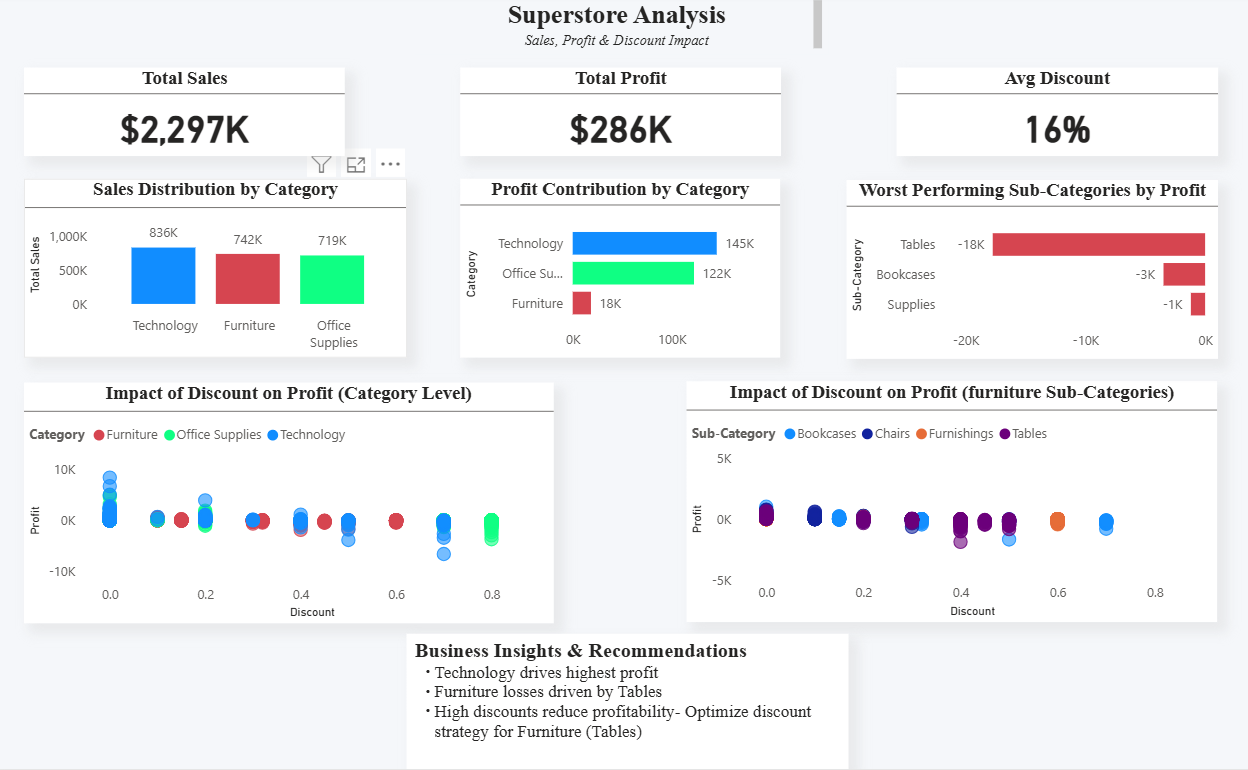

This screenshot's page, from the dashboard's own definition file:
{"tool":"powerbi","page":{"name":"Page 1","canvas":[1280,720],"ordinal":0},"visuals":[{"type":"clusteredColumnChart","title":"Sales Distribution by Category","fields":{"Y":["Sample - Superstore.Total Sales"],"Category":["Sample - Superstore.Category"]},"box":[32.5,171.2,356.2,166.2],"z":0},{"type":"clusteredBarChart","title":"Profit Contribution by Category","fields":{"Category":["Sample - Superstore.Category"],"Y":["Sample - Superstore.Total Profit"]},"box":[438.8,171.2,297.5,166.2],"z":1000},{"type":"scatterChart","title":"Impact of Discount on Profit (Category Level)","fields":{"Y":["Sample - Superstore.Profit"],"Series":["Sample - Superstore.Category"],"X":["Sample - Superstore.Discount"]},"box":[32.5,360,492.5,223.8],"z":2000},{"type":"scatterChart","title":"Impact of Discount on Profit )(furniture Sub-Categories)","fields":{"X":["Sample - Superstore.Discount"],"Y":["Sample - Superstore.Profit"],"Series":["Sample - Superstore.Sub-Category"]},"box":[631.2,360,493.8,223.8],"z":3000},{"type":"textbox","box":[396.2,0,383.8,55],"z":4000},{"type":"card","title":"Total Sales","fields":{"Values":["Sample - Superstore.Total Sales"]},"box":[32.5,67.5,298.8,82.5],"z":5000},{"type":"card","title":"Total Profit","fields":{"Values":["Sample - Superstore.Total Profit"]},"box":[438.8,67.5,298.8,82.5],"z":6000},{"type":"card","title":"Avg Discount","fields":{"Values":["Sample - Superstore.Avg Discount"]},"box":[826.2,67.5,298.8,82.5],"z":7000},{"type":"clusteredBarChart","title":"Worst Performing Sub-Categories by Profit","fields":{"Y":["Sample - Superstore.Total Profit"],"Category":["Sample - Superstore.Sub-Category"]},"box":[780,171.2,345,166.2],"z":8000},{"type":"textbox","box":[388.8,593.8,411.2,126.2],"z":9000}]}

Visuals, with their boxes on the page's 1280x720 design canvas (x1, y1, x2, y2). These are canvas units, not pixel positions in the 1248x770 screenshot, which may show the page scaled, cropped or inside an application window:
"Sales Distribution by Category" clusteredColumnChart: <bbox>32, 171, 389, 337</bbox>
"Profit Contribution by Category" clusteredBarChart: <bbox>439, 171, 736, 337</bbox>
"Impact of Discount on Profit (Category Level)" scatterChart: <bbox>32, 360, 525, 584</bbox>
"Impact of Discount on Profit )(furniture Sub-Categories)" scatterChart: <bbox>631, 360, 1125, 584</bbox>
textbox: <bbox>396, 0, 780, 55</bbox>
"Total Sales" card: <bbox>32, 68, 331, 150</bbox>
"Total Profit" card: <bbox>439, 68, 738, 150</bbox>
"Avg Discount" card: <bbox>826, 68, 1125, 150</bbox>
"Worst Performing Sub-Categories by Profit" clusteredBarChart: <bbox>780, 171, 1125, 337</bbox>
textbox: <bbox>389, 594, 800, 720</bbox>
